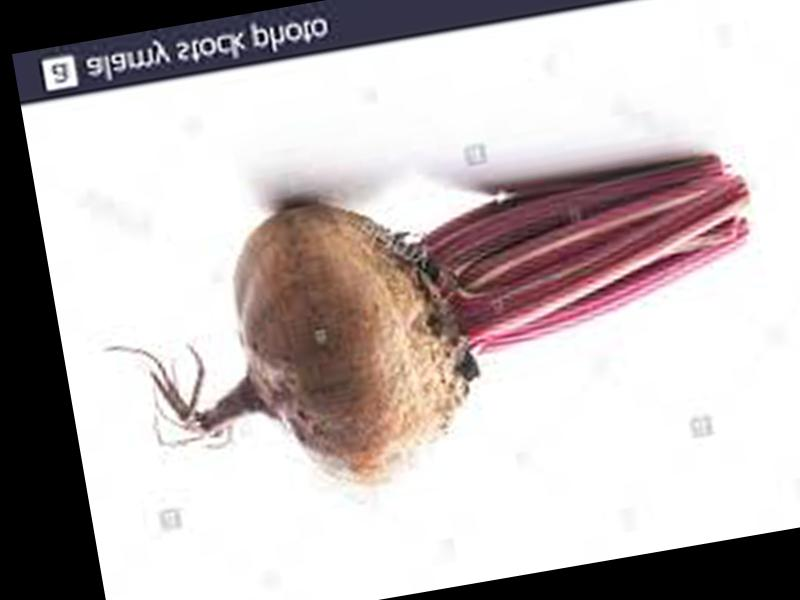Beet: (86, 128, 786, 524)
